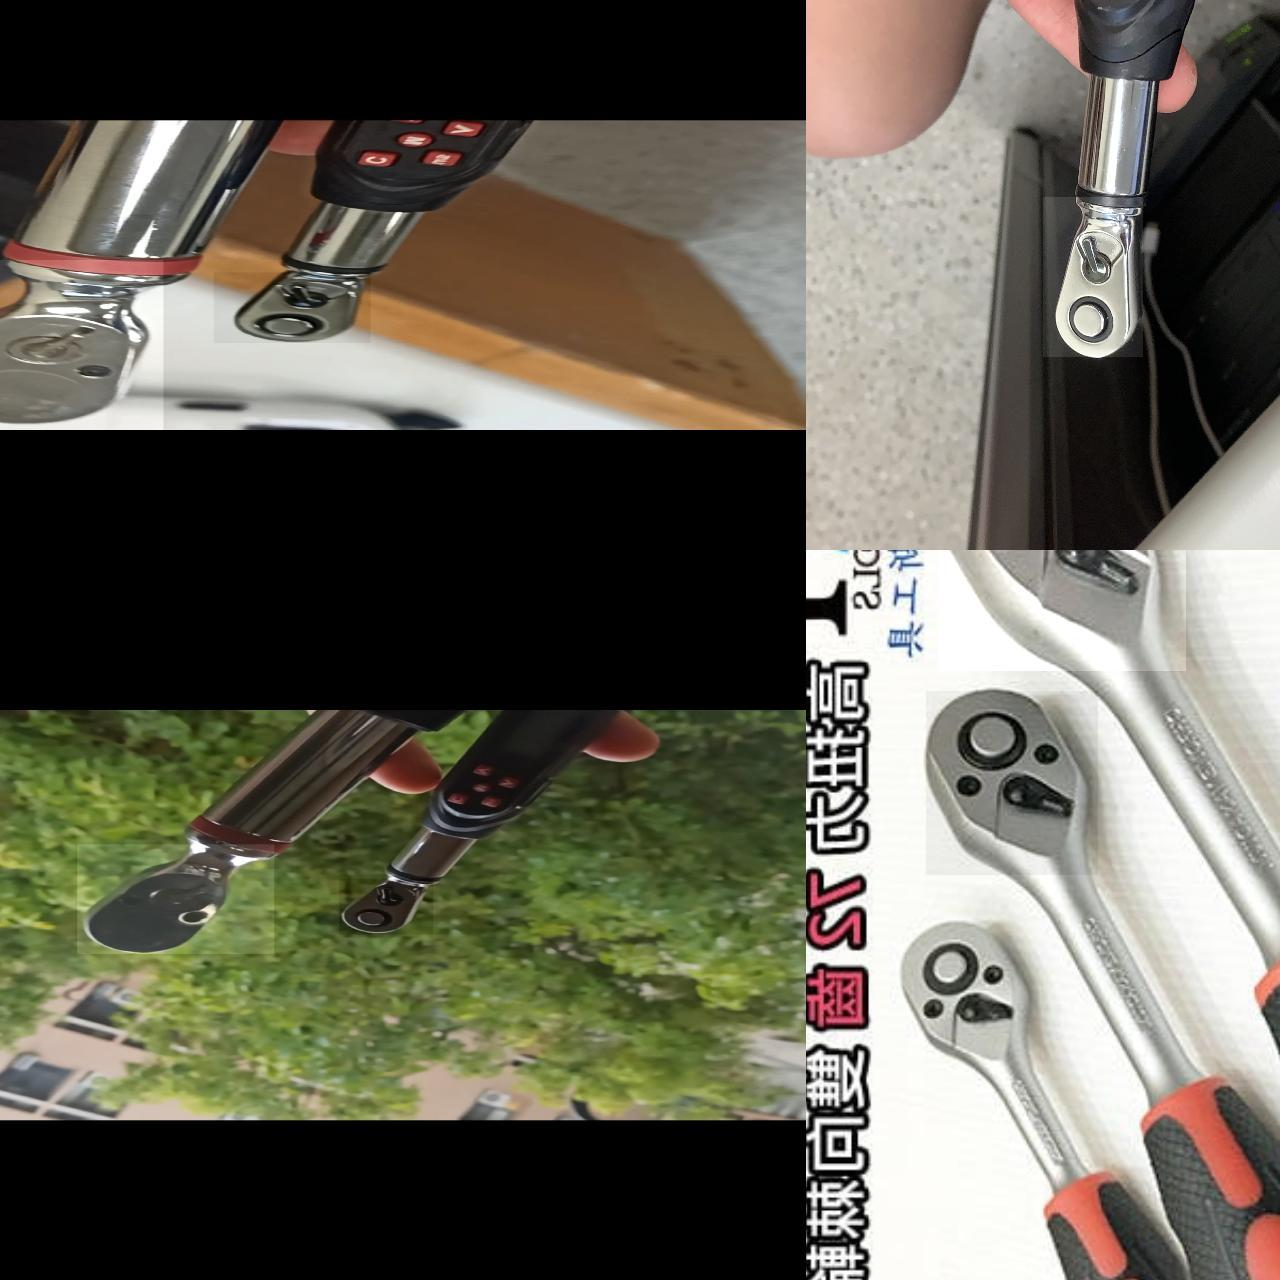Tool: (925, 691, 1097, 875), (937, 550, 1185, 671), (0, 259, 162, 429), (76, 844, 273, 954), (896, 919, 1040, 1066), (1042, 197, 1142, 357), (212, 272, 370, 343), (338, 879, 432, 934)
